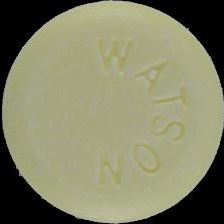65162-347: (0, 0, 224, 224)
